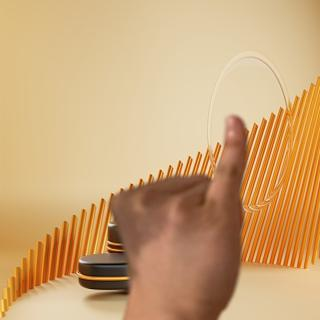FINE: (108, 110, 255, 320)
